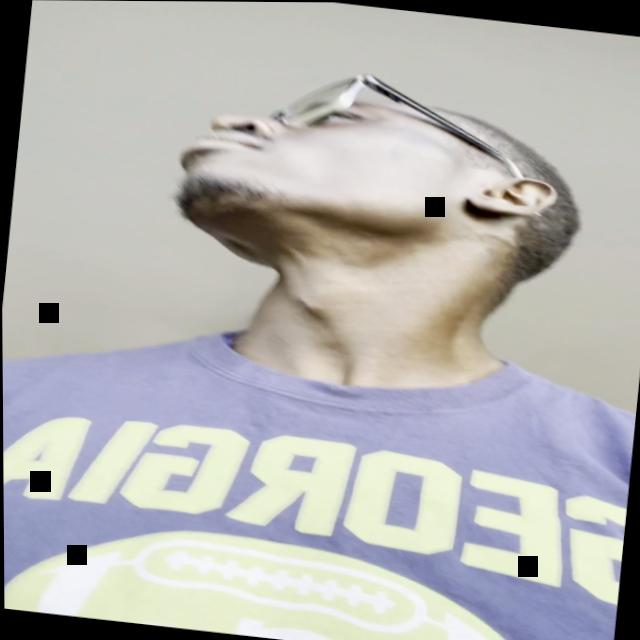NO-Mask: (165, 73, 513, 256)
